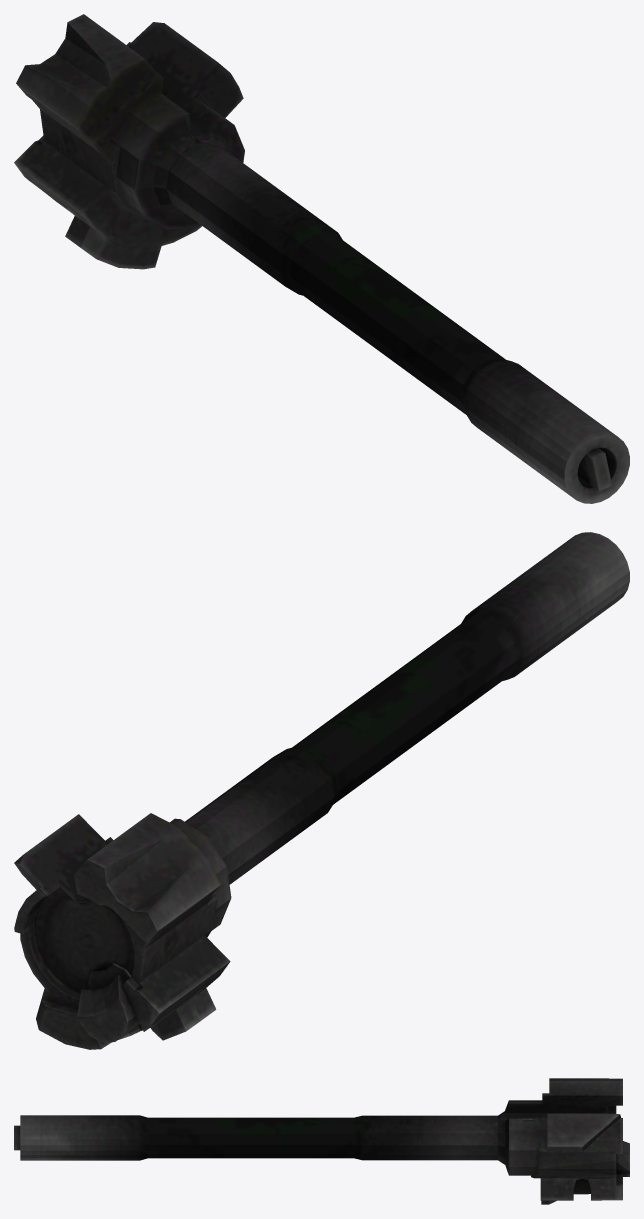
The picture shows the model from 3 angles, top to bottom: view 1: azimuth 30°, elevation 25°; view 2: azimuth 150°, elevation 25°; view 3: azimuth 270°, elevation 25°; orthographic projection. The views are drawn at different scales.
Parts seen in each view (by area): view 1: TW_5c46fbd72e2216398b5a8c9c_PZ_Import; view 2: TW_5c46fbd72e2216398b5a8c9c_PZ_Import; view 3: TW_5c46fbd72e2216398b5a8c9c_PZ_Import.
Boxes of the visible parts, left/top/right/bottom form: TW_5c46fbd72e2216398b5a8c9c_PZ_Import: left=14, top=14, right=629, bottom=503; TW_5c46fbd72e2216398b5a8c9c_PZ_Import: left=14, top=532, right=629, bottom=1049; TW_5c46fbd72e2216398b5a8c9c_PZ_Import: left=14, top=1078, right=629, bottom=1204.
Bounding box in the file's own units: 0.0136 × 0.0724 × 0.0159.
1 material, 1 textured.
